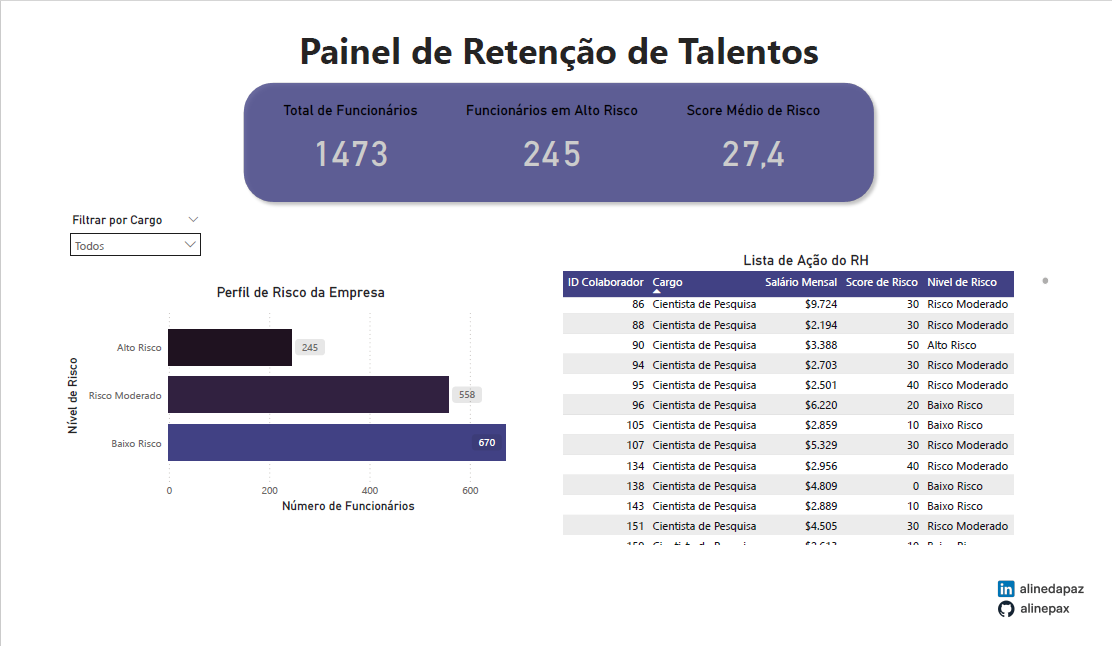

Layout of this report page (visuals, bound fields, positions):
{"tool":"powerbi","page":{"name":"Página 1","canvas":[1280,720],"ordinal":0},"visuals":[{"type":"textbox","box":[134.4,0,1011.2,80.6],"z":0},{"type":"clusteredBarChart","title":"Perfil de Risco da Empresa","fields":{"Category":["Base_de_Dados_RH_Automação - Resultados_Analisados.Nivel_De_Risco 2"],"Y":["Count(Base_de_Dados_RH_Automação - Resultados_Analisados.EmployeeNumber)"]},"box":[48,311.9,570.5,278.2],"z":0},{"type":"image","box":[1152,656,128,64],"z":2000},{"type":"shape","box":[256,64,768,160],"z":3500},{"type":"card","title":"Total de Funcionários","fields":{"Values":["Count(Base_de_Dados_RH_Automação - Resultados_Analisados.EmployeeNumber)"]},"box":[304,96,176,96],"z":4000},{"type":"card","title":"Funcionários em Alto Risco","fields":{"Values":["Count(Base_de_Dados_RH_Automação - Resultados_Analisados.EmployeeNumber)"]},"box":[512,96,240,96],"z":5000},{"type":"slicer","fields":{"Values":["Base_de_Dados_RH_Automação - Resultados_Analisados.Cargo_Traduzido"]},"box":[48,224,176,80],"z":6000},{"type":"card","title":"Score Médio de Risco","fields":{"Values":["Avg(Base_de_Dados_RH_Automação - Resultados_Analisados.Score_de_Risco)"]},"box":[784,96,176,96],"z":7000},{"type":"tableEx","title":"Lista de Ação do RH","fields":{"Values":["Sum(Base_de_Dados_RH_Automação - Resultados_Analisados.EmployeeNumber)","Base_de_Dados_RH_Automação - Resultados_Analisados.Cargo_Traduzido","Sum(Base_de_Dados_RH_Automação - Resultados_Analisados.MonthlyIncome)","Sum(Base_de_Dados_RH_Automação - Resultados_Analisados.Score_de_Risco)","Base_de_Dados_RH_Automação - Resultados_Analisados.Nivel de Risco"]},"box":[639.6,274.1,589.8,353.9],"z":8000}]}

Visuals, with their boxes on the page's 1280x720 design canvas (x1, y1, x2, y2). These are canvas units, not pixel positions in the 1112x646 screenshot, which may show the page scaled, cropped or inside an application window:
textbox: [x1=134, y1=0, x2=1146, y2=81]
"Perfil de Risco da Empresa" clusteredBarChart: [x1=48, y1=312, x2=618, y2=590]
image: [x1=1152, y1=656, x2=1280, y2=720]
shape: [x1=256, y1=64, x2=1024, y2=224]
"Total de Funcionários" card: [x1=304, y1=96, x2=480, y2=192]
"Funcionários em Alto Risco" card: [x1=512, y1=96, x2=752, y2=192]
slicer - Base_de_Dados_RH_Automação - Resultados_Analisados.Cargo_Traduzido: [x1=48, y1=224, x2=224, y2=304]
"Score Médio de Risco" card: [x1=784, y1=96, x2=960, y2=192]
"Lista de Ação do RH" tableEx: [x1=640, y1=274, x2=1229, y2=628]
